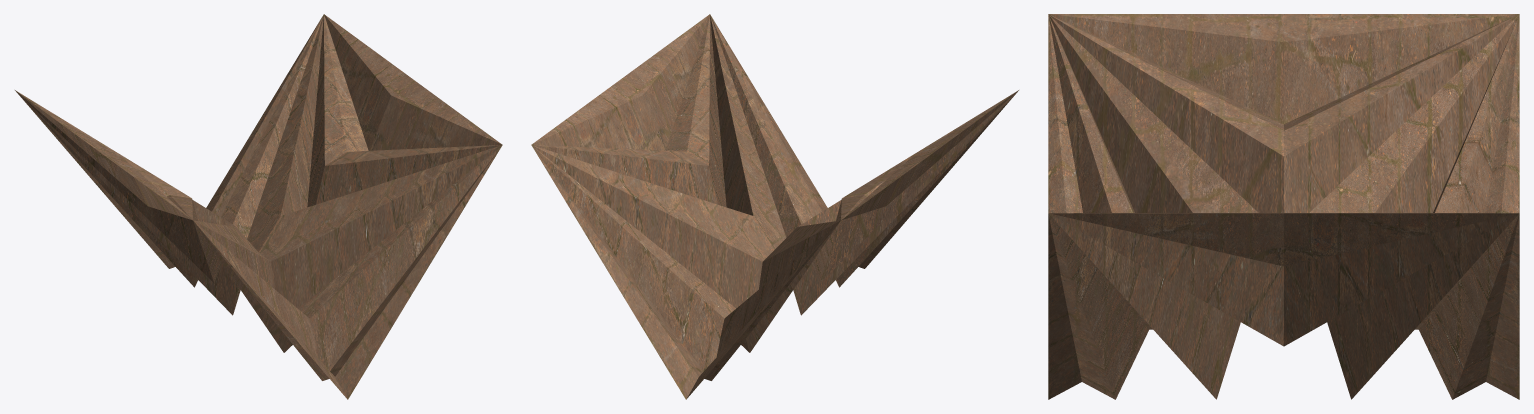
The model's file is Bobeda.fbx.
The picture shows the model from 3 angles, left to right: view 1: azimuth 30°, elevation 25°; view 2: azimuth 150°, elevation 25°; view 3: azimuth 270°, elevation 25°; orthographic projection. The views are drawn at different scales.
Visible parts, largest first — view 1: Plane; view 2: Plane; view 3: Plane.
Part boxes in pixels (box(x1,y1,x2,y2)): Plane: box(15, 14, 502, 399); Plane: box(531, 14, 1018, 399); Plane: box(1048, 14, 1519, 399).
Bounding box in the file's own units: 600 × 402 × 600.
